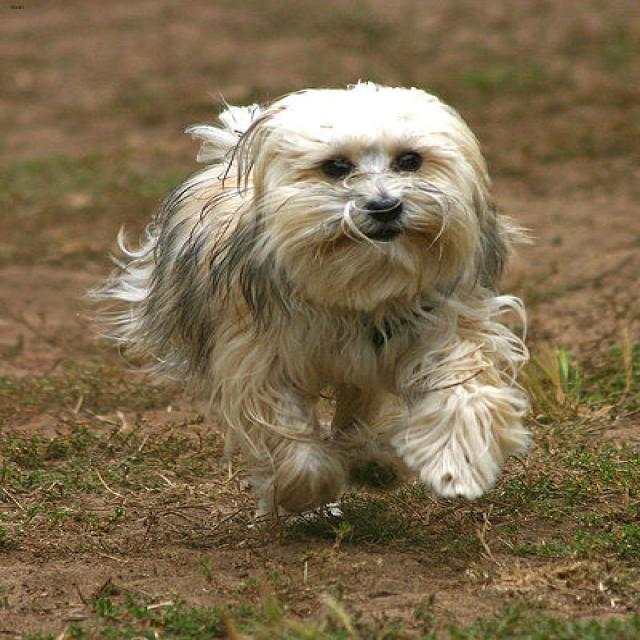dog-havanese: (67, 72, 547, 532)
